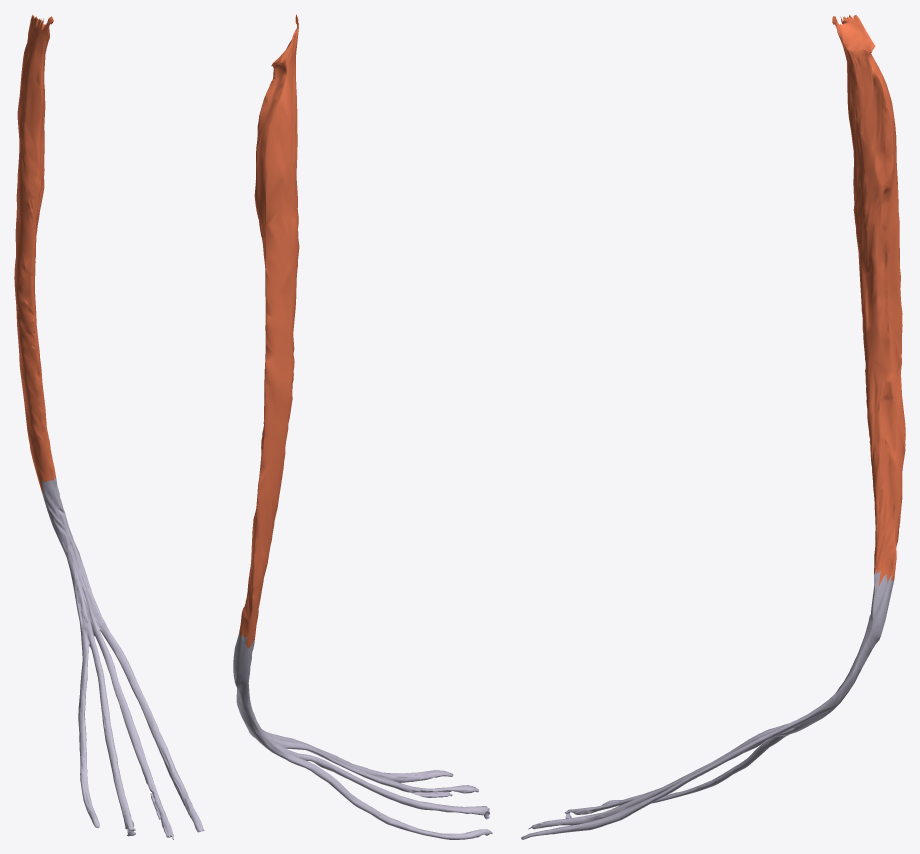
File: Extensor_digitorum_longus.r_Generated_Mesh_From_X3D.972.glb
3 renders of one model, left to right at view 1: azimuth 30°, elevation 25°; view 2: azimuth 150°, elevation 25°; view 3: azimuth 270°, elevation 25°, orthographic. The views are drawn at different scales.
Parts seen in each view (by area): view 1: Extensor_digitorum_longus.r_Generated_Mesh_From_X3D.972; view 2: Extensor_digitorum_longus.r_Generated_Mesh_From_X3D.972; view 3: Extensor_digitorum_longus.r_Generated_Mesh_From_X3D.972.
Part boxes in pixels (box(x1,y1,x2,y2)): Extensor_digitorum_longus.r_Generated_Mesh_From_X3D.972: box(14, 14, 204, 839); Extensor_digitorum_longus.r_Generated_Mesh_From_X3D.972: box(233, 14, 492, 839); Extensor_digitorum_longus.r_Generated_Mesh_From_X3D.972: box(521, 14, 905, 839).
Bounding box in the file's own units: 0.0568 × 0.4066 × 0.1718.
